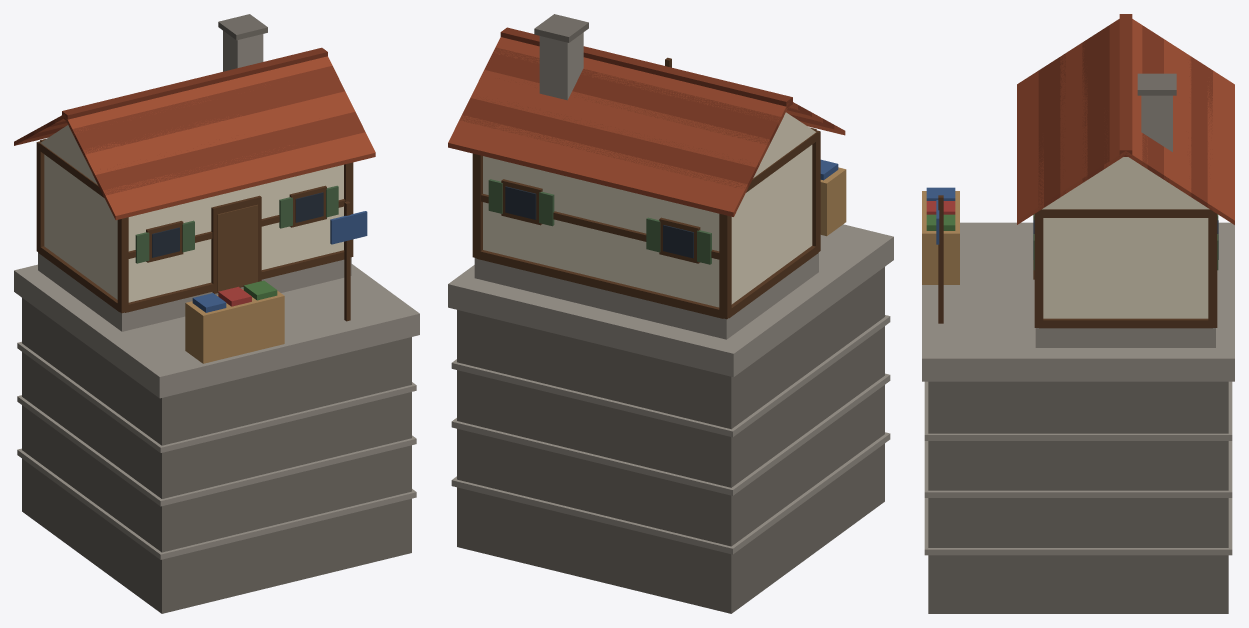
Rendered from tailor.glb.
3 views of the same model, side by side, from view 1: azimuth 30°, elevation 25°; view 2: azimuth 150°, elevation 25°; view 3: azimuth 270°, elevation 25° (orthographic). The views are drawn at different scales.
Parts seen in each view (by area): view 1: tailor; view 2: tailor; view 3: tailor.
Part boxes in pixels (left/top/right/bottom): tailor: left=14, top=14, right=419, bottom=613; tailor: left=448, top=14, right=893, bottom=613; tailor: left=922, top=14, right=1234, bottom=613.
Size of the model in its own units: 5.1 by 8.72 by 4.95.
